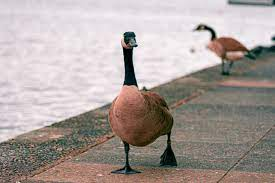Walking: (105, 22, 188, 183)
